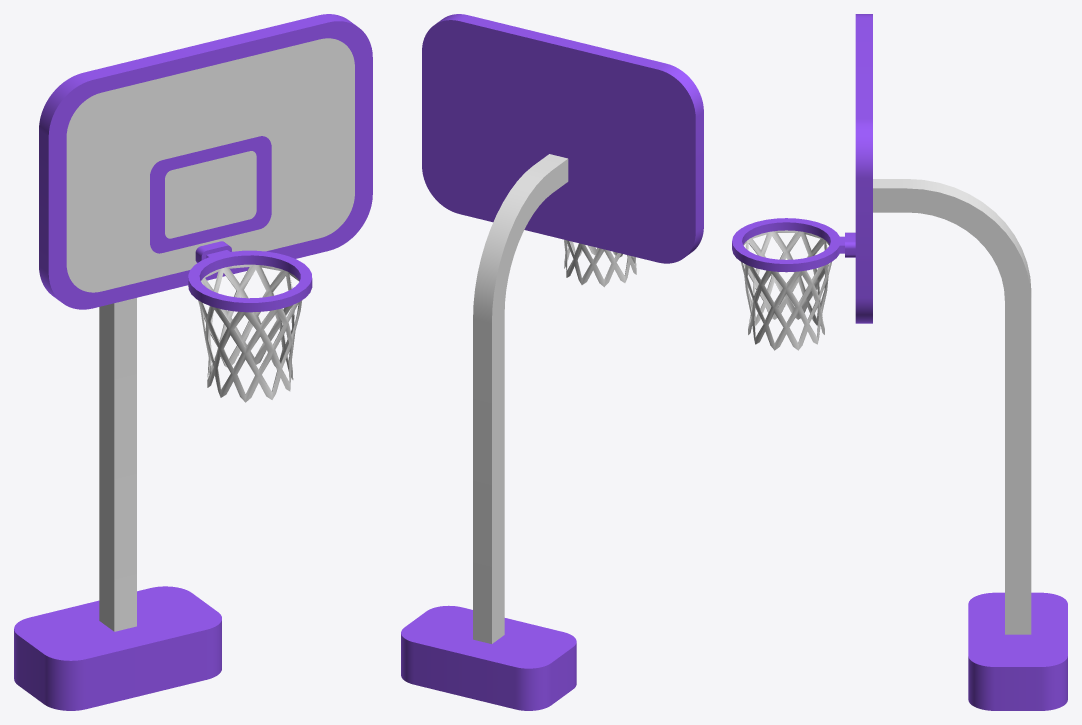
File: Baketball Hoop Violet.fbx
The picture shows the model from 3 angles, left to right: view 1: azimuth 30°, elevation 25°; view 2: azimuth 150°, elevation 25°; view 3: azimuth 270°, elevation 25°; orthographic projection. The views are drawn at different scales.
Parts seen in each view (by area): view 1: Basketball Hoop Stand Violet, Basketball Lattice Violet, Basketball Hoop Violet; view 2: Basketball Hoop Stand Violet, Basketball Lattice Violet; view 3: Basketball Hoop Stand Violet, Basketball Lattice Violet, Basketball Hoop Violet.
Part boxes in pixels (x1,y1,x2,y2): Basketball Hoop Stand Violet: (14, 14, 372, 710); Basketball Lattice Violet: (198, 264, 302, 402); Basketball Hoop Violet: (188, 241, 312, 312); Basketball Hoop Stand Violet: (401, 14, 703, 710); Basketball Lattice Violet: (564, 239, 636, 287); Basketball Hoop Stand Violet: (855, 14, 1067, 710); Basketball Lattice Violet: (741, 230, 831, 350); Basketball Hoop Violet: (732, 218, 855, 272).
Size of the model in its own units: 292 by 595 by 299.
